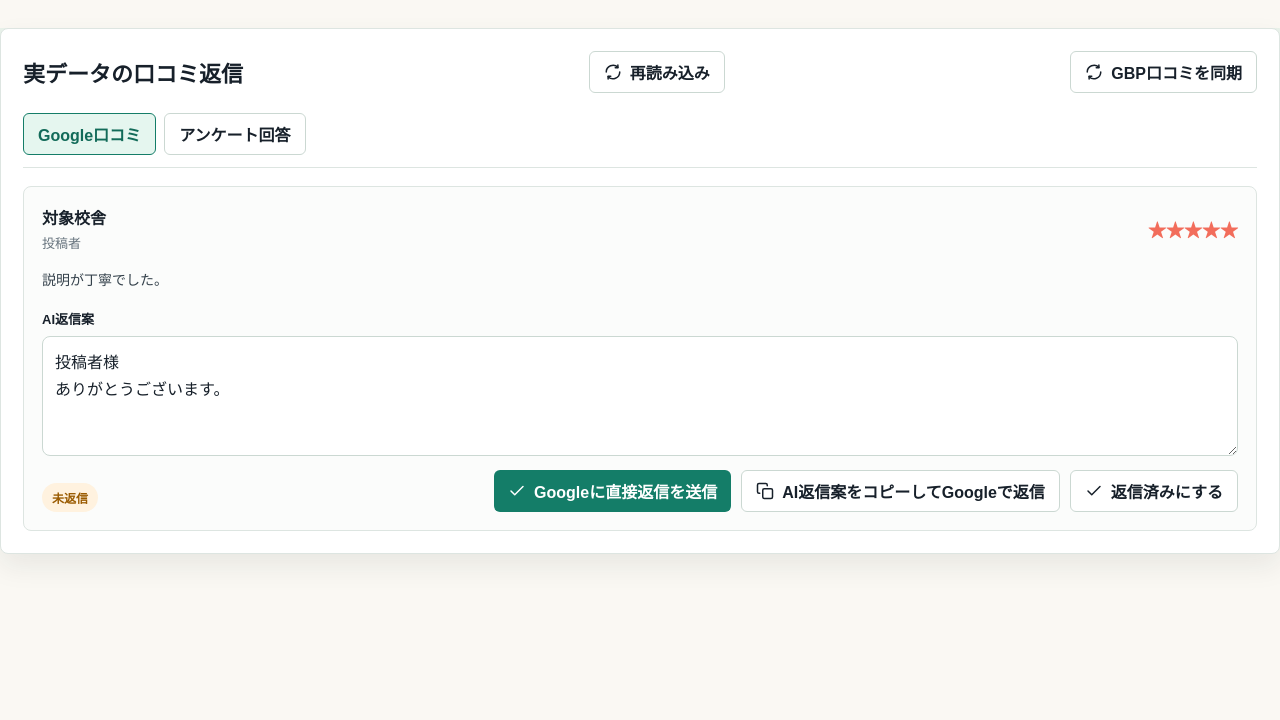
Test case: ReviewsClient direct Google replies › keeps edited text when both Google and the draft save fail
Expected: the text "投稿者" is shown, [42, 236, 81, 251]
Step 1. Replace the text in the text box labelled "AI返信案" with "失ってはいけない本文" → [640, 396], box [42, 336, 1238, 456]
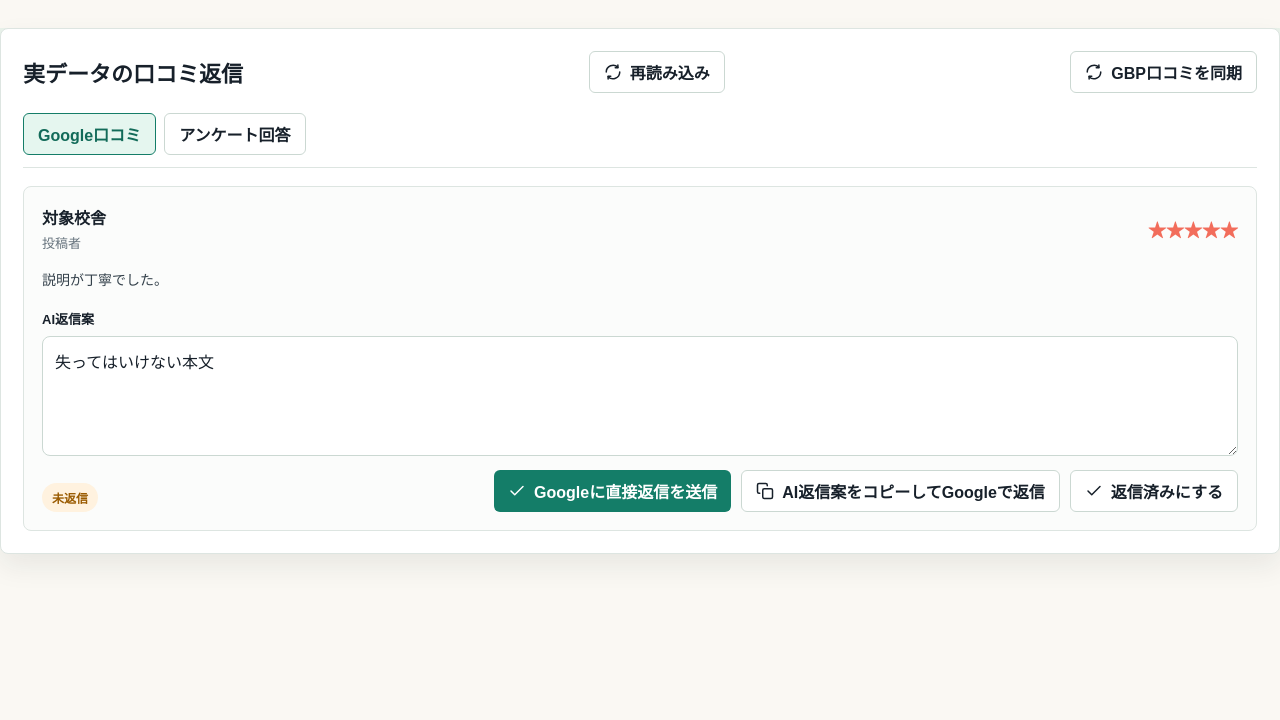
Step 2. Click the button "Googleに直接返信を送信" → [613, 491], box [494, 470, 731, 512]
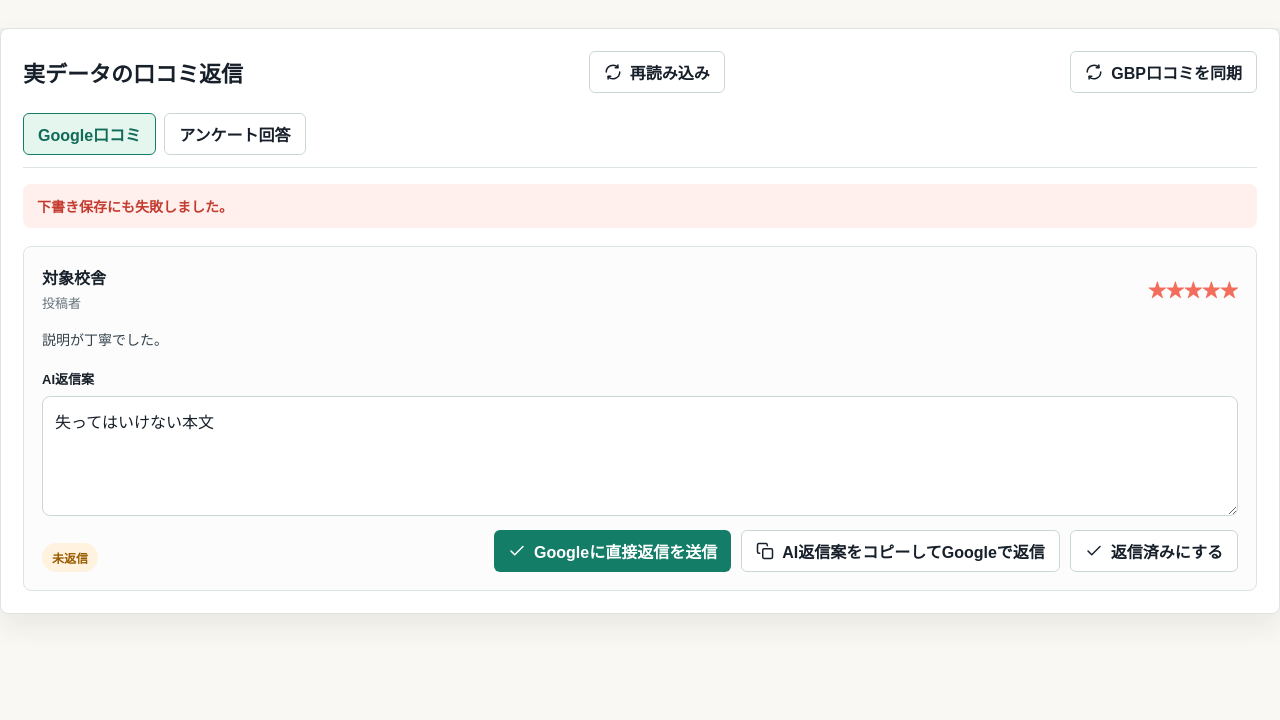
Expected: the text "下書き保存にも失敗しました。" is shown, [23, 184, 1257, 228]
